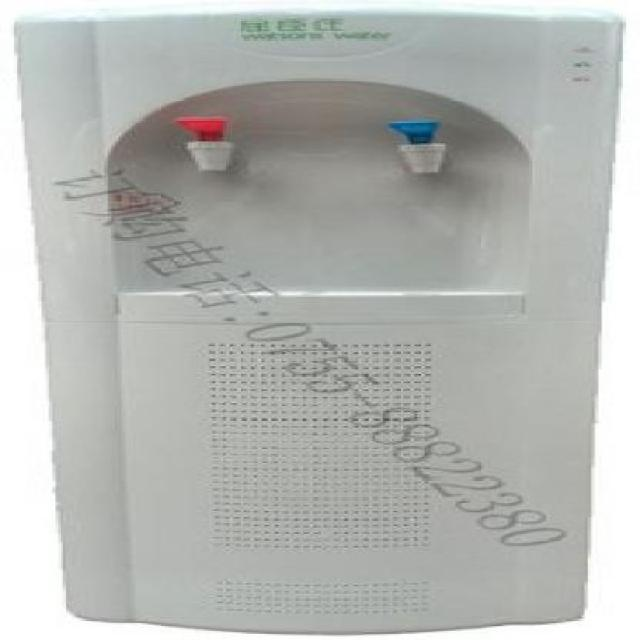cooler: (16, 5, 624, 639)
